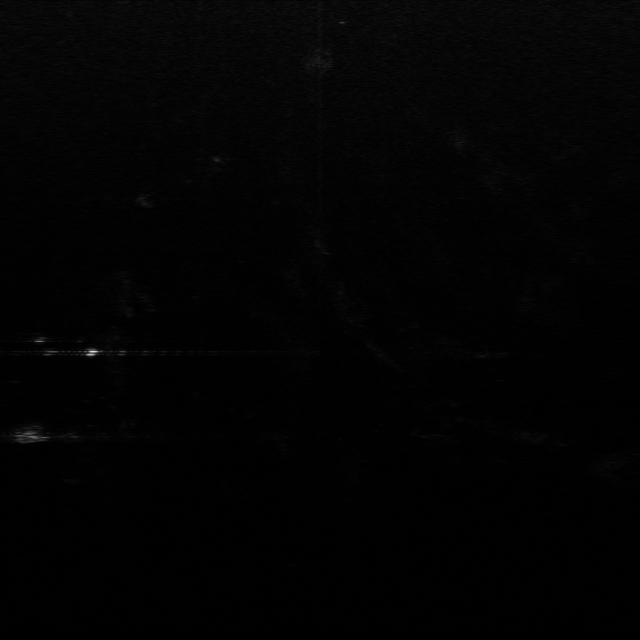rov: (12, 426, 54, 446)
